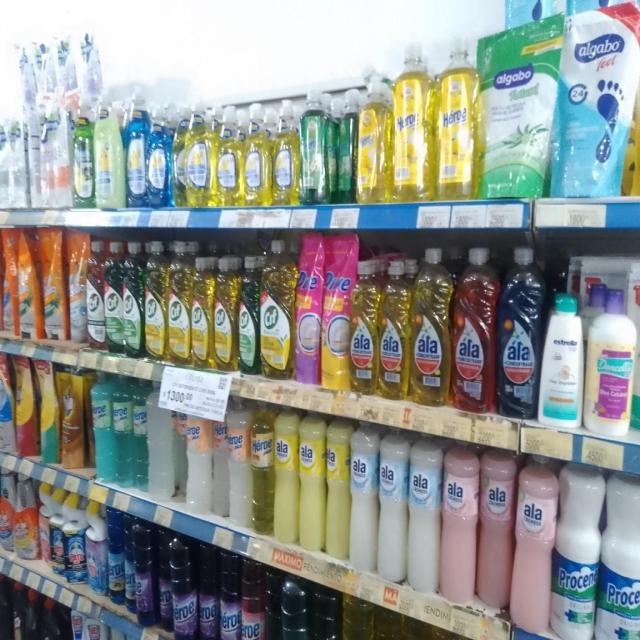ala_conc_amarillo: (411, 246, 451, 406), (379, 257, 410, 400), (349, 259, 378, 397)
ala_conc_azul: (498, 245, 540, 419)
ala_conc_rojo: (452, 246, 496, 413)
ala_crem_amarillo: (299, 410, 325, 553), (274, 405, 298, 546)
ala_crem_blanco: (408, 436, 440, 594), (378, 428, 407, 582), (350, 421, 377, 573)
ala_crem_rosado: (514, 456, 554, 636), (442, 444, 478, 604), (478, 450, 512, 612)
cif_conc_bot_amarilla: (260, 240, 294, 380), (144, 240, 167, 362), (168, 240, 190, 366), (214, 255, 237, 372), (191, 254, 213, 370)
cif_conc_botella_roja: (87, 239, 104, 350)
cif_conc_botella_verde: (238, 254, 259, 376), (123, 241, 143, 358), (104, 241, 122, 355)
heroe: (250, 399, 274, 536), (186, 392, 212, 515), (228, 395, 250, 529), (90, 370, 114, 484), (114, 374, 133, 488), (212, 394, 228, 520), (133, 377, 147, 493), (343, 596, 374, 640), (376, 608, 402, 640)
magistral_con_amarillo: (184, 101, 214, 208), (272, 97, 300, 207), (244, 101, 271, 208), (216, 103, 243, 208), (173, 101, 194, 208)
magistral_con_azul: (147, 100, 171, 209), (125, 91, 147, 209)
